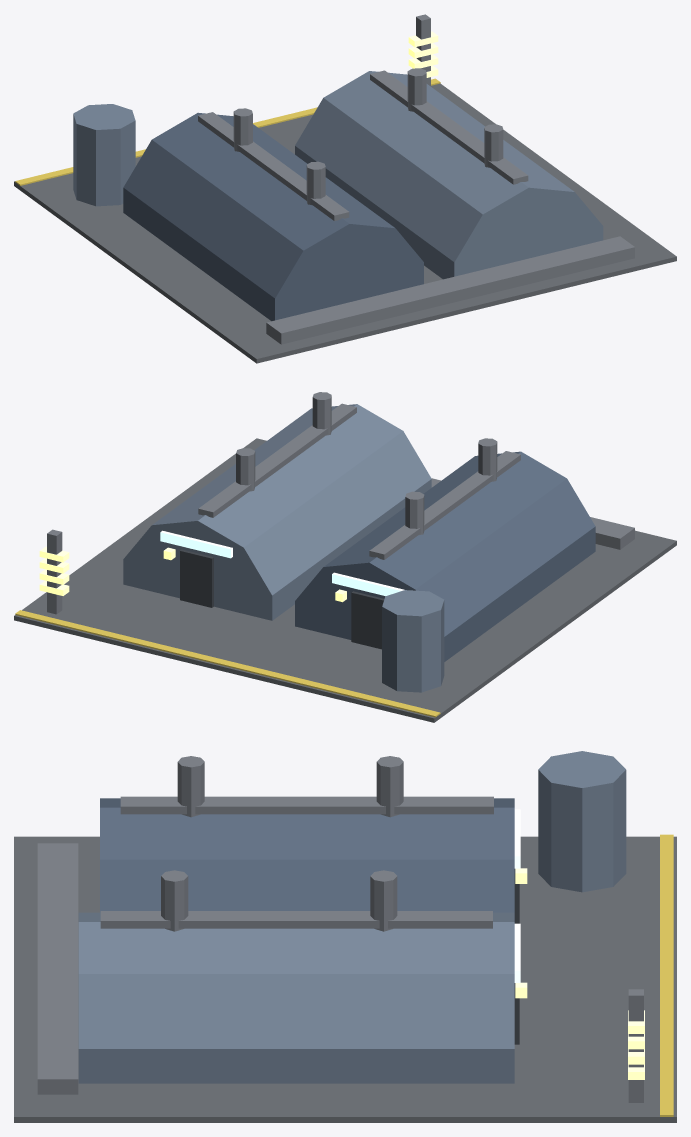
The model's file is zone_low_3_t4.glb.
3 views of the same model, one above another, from view 1: azimuth 30°, elevation 25°; view 2: azimuth 150°, elevation 25°; view 3: azimuth 270°, elevation 25° (orthographic). The views are drawn at different scales.
Parts seen in each view (by area): view 1: zone_low_3_t4, detail; view 2: zone_low_3_t4, detail; view 3: zone_low_3_t4, detail.
Part boxes in pixels (x1,y1,x2,y2): zone_low_3_t4: (14, 70, 676, 363); detail: (15, 14, 503, 205); zone_low_3_t4: (14, 403, 676, 722); detail: (15, 392, 497, 717); zone_low_3_t4: (14, 751, 676, 1122); detail: (161, 756, 673, 1116).
Size of the model in its own units: 19.6 by 5.35 by 19.6.
